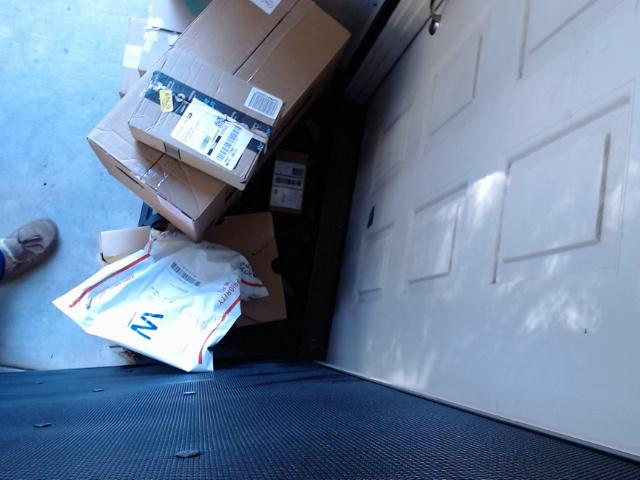box: (74, 8, 360, 201), (76, 211, 305, 322), (137, 34, 281, 193), (267, 146, 323, 221)
plastic_bag: (48, 238, 261, 376)
